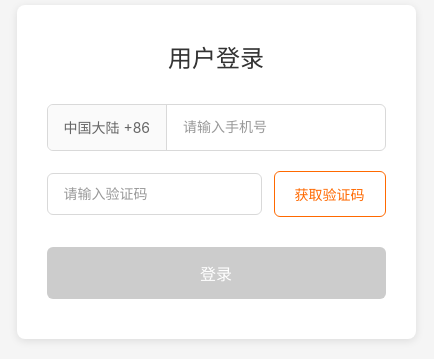
Test: LoginForm Component › 加载状态下按钮应该被禁用并显示加载文本
Type "13812345678" into the field with test id "phone-input".
click(274, 127); type("13812345678")  # box 167,107 -> 380,147
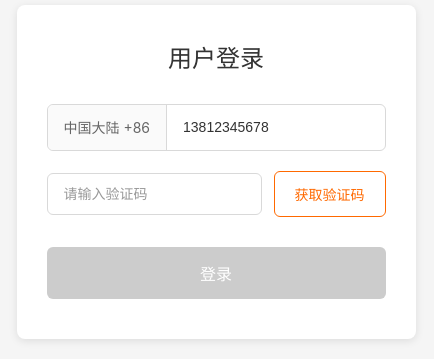
Type "123456" into the field with test id "verification-code-input".
click(154, 194); type("123456")  # box 46,173 -> 262,215
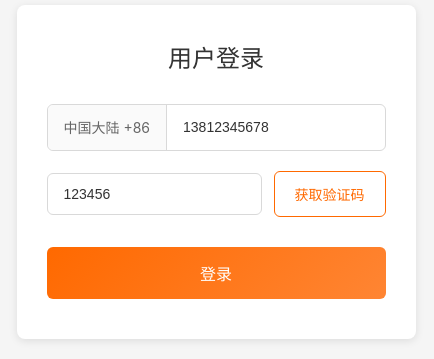
Click the button with test id "login-submit-button".
click(216, 273)  # box 46,247 -> 386,299
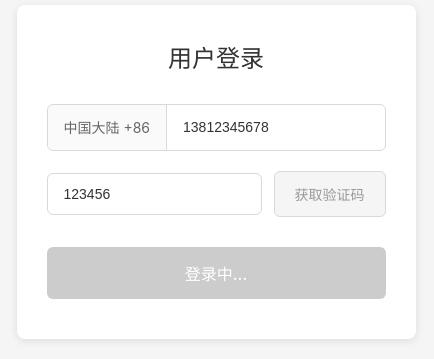
expect the button with test id "login-submit-button" reads "登录中...": met, box 46,247 -> 386,299
expect the button with test id "login-submit-button" is disabled: met, box 46,247 -> 386,299
